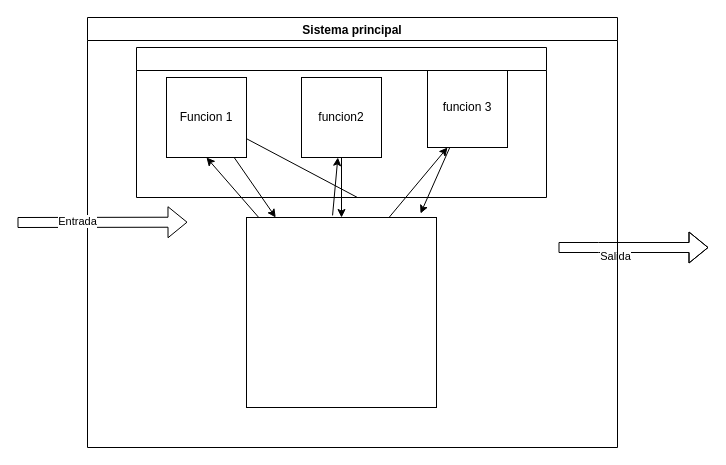
Some shapes in this 726 by 465 pixel diagram are drawn without their labels. The box of each missing label's shape, as (x1, y1, x2, y2) in pixels:
Archivo Funciones: (136, 46, 546, 198)
Archivo programa principal: (246, 216, 436, 408)
